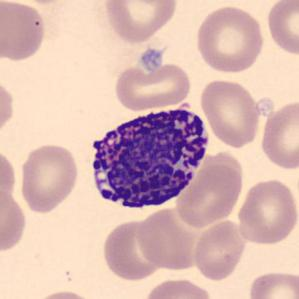Basophil: (83, 100, 213, 218)
Platelets: (138, 47, 164, 72)
RBC: (193, 3, 267, 75), (173, 158, 245, 228), (198, 77, 262, 149), (111, 58, 194, 113), (18, 141, 80, 214), (100, 216, 168, 282), (235, 176, 298, 246), (191, 217, 248, 283), (102, 0, 180, 43), (258, 98, 299, 172), (0, 0, 47, 64), (0, 185, 28, 255), (264, 0, 298, 57), (140, 275, 215, 299), (245, 268, 298, 299), (0, 144, 18, 205), (0, 77, 16, 139), (30, 287, 97, 299), (6, 0, 73, 6)
